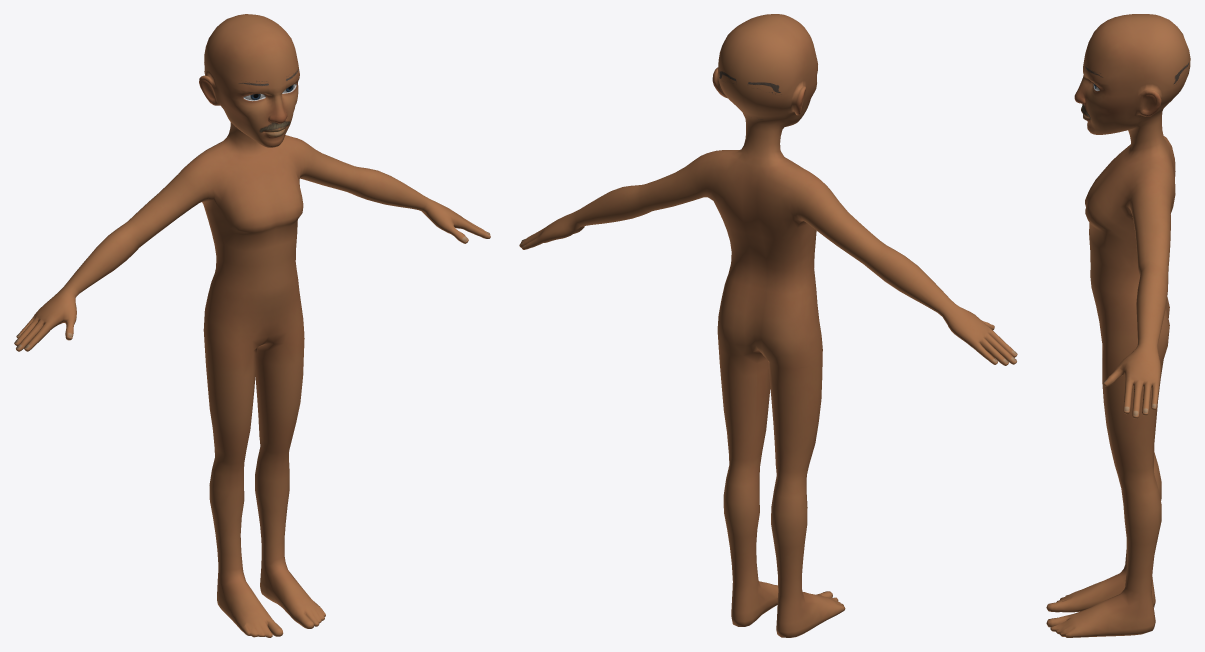
File: frame_0001.glb
3 views of the same model, side by side, from view 1: azimuth 30°, elevation 25°; view 2: azimuth 150°, elevation 25°; view 3: azimuth 270°, elevation 25° (orthographic). The views are drawn at different scales.
Parts seen in each view (by area): view 1: frame_0001_head_geo; view 2: frame_0001_head_geo; view 3: frame_0001_head_geo.
Boxes of the visible parts, x1,y1,x2,y2 form: frame_0001_head_geo: (14, 14, 490, 637); frame_0001_head_geo: (519, 14, 1017, 637); frame_0001_head_geo: (1046, 14, 1190, 637).
Size of the model in its own units: 1.28 by 1.5 by 0.3253.
Materials: 4 (2 with a texture image).
